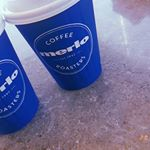cups: (1, 1, 105, 91)
